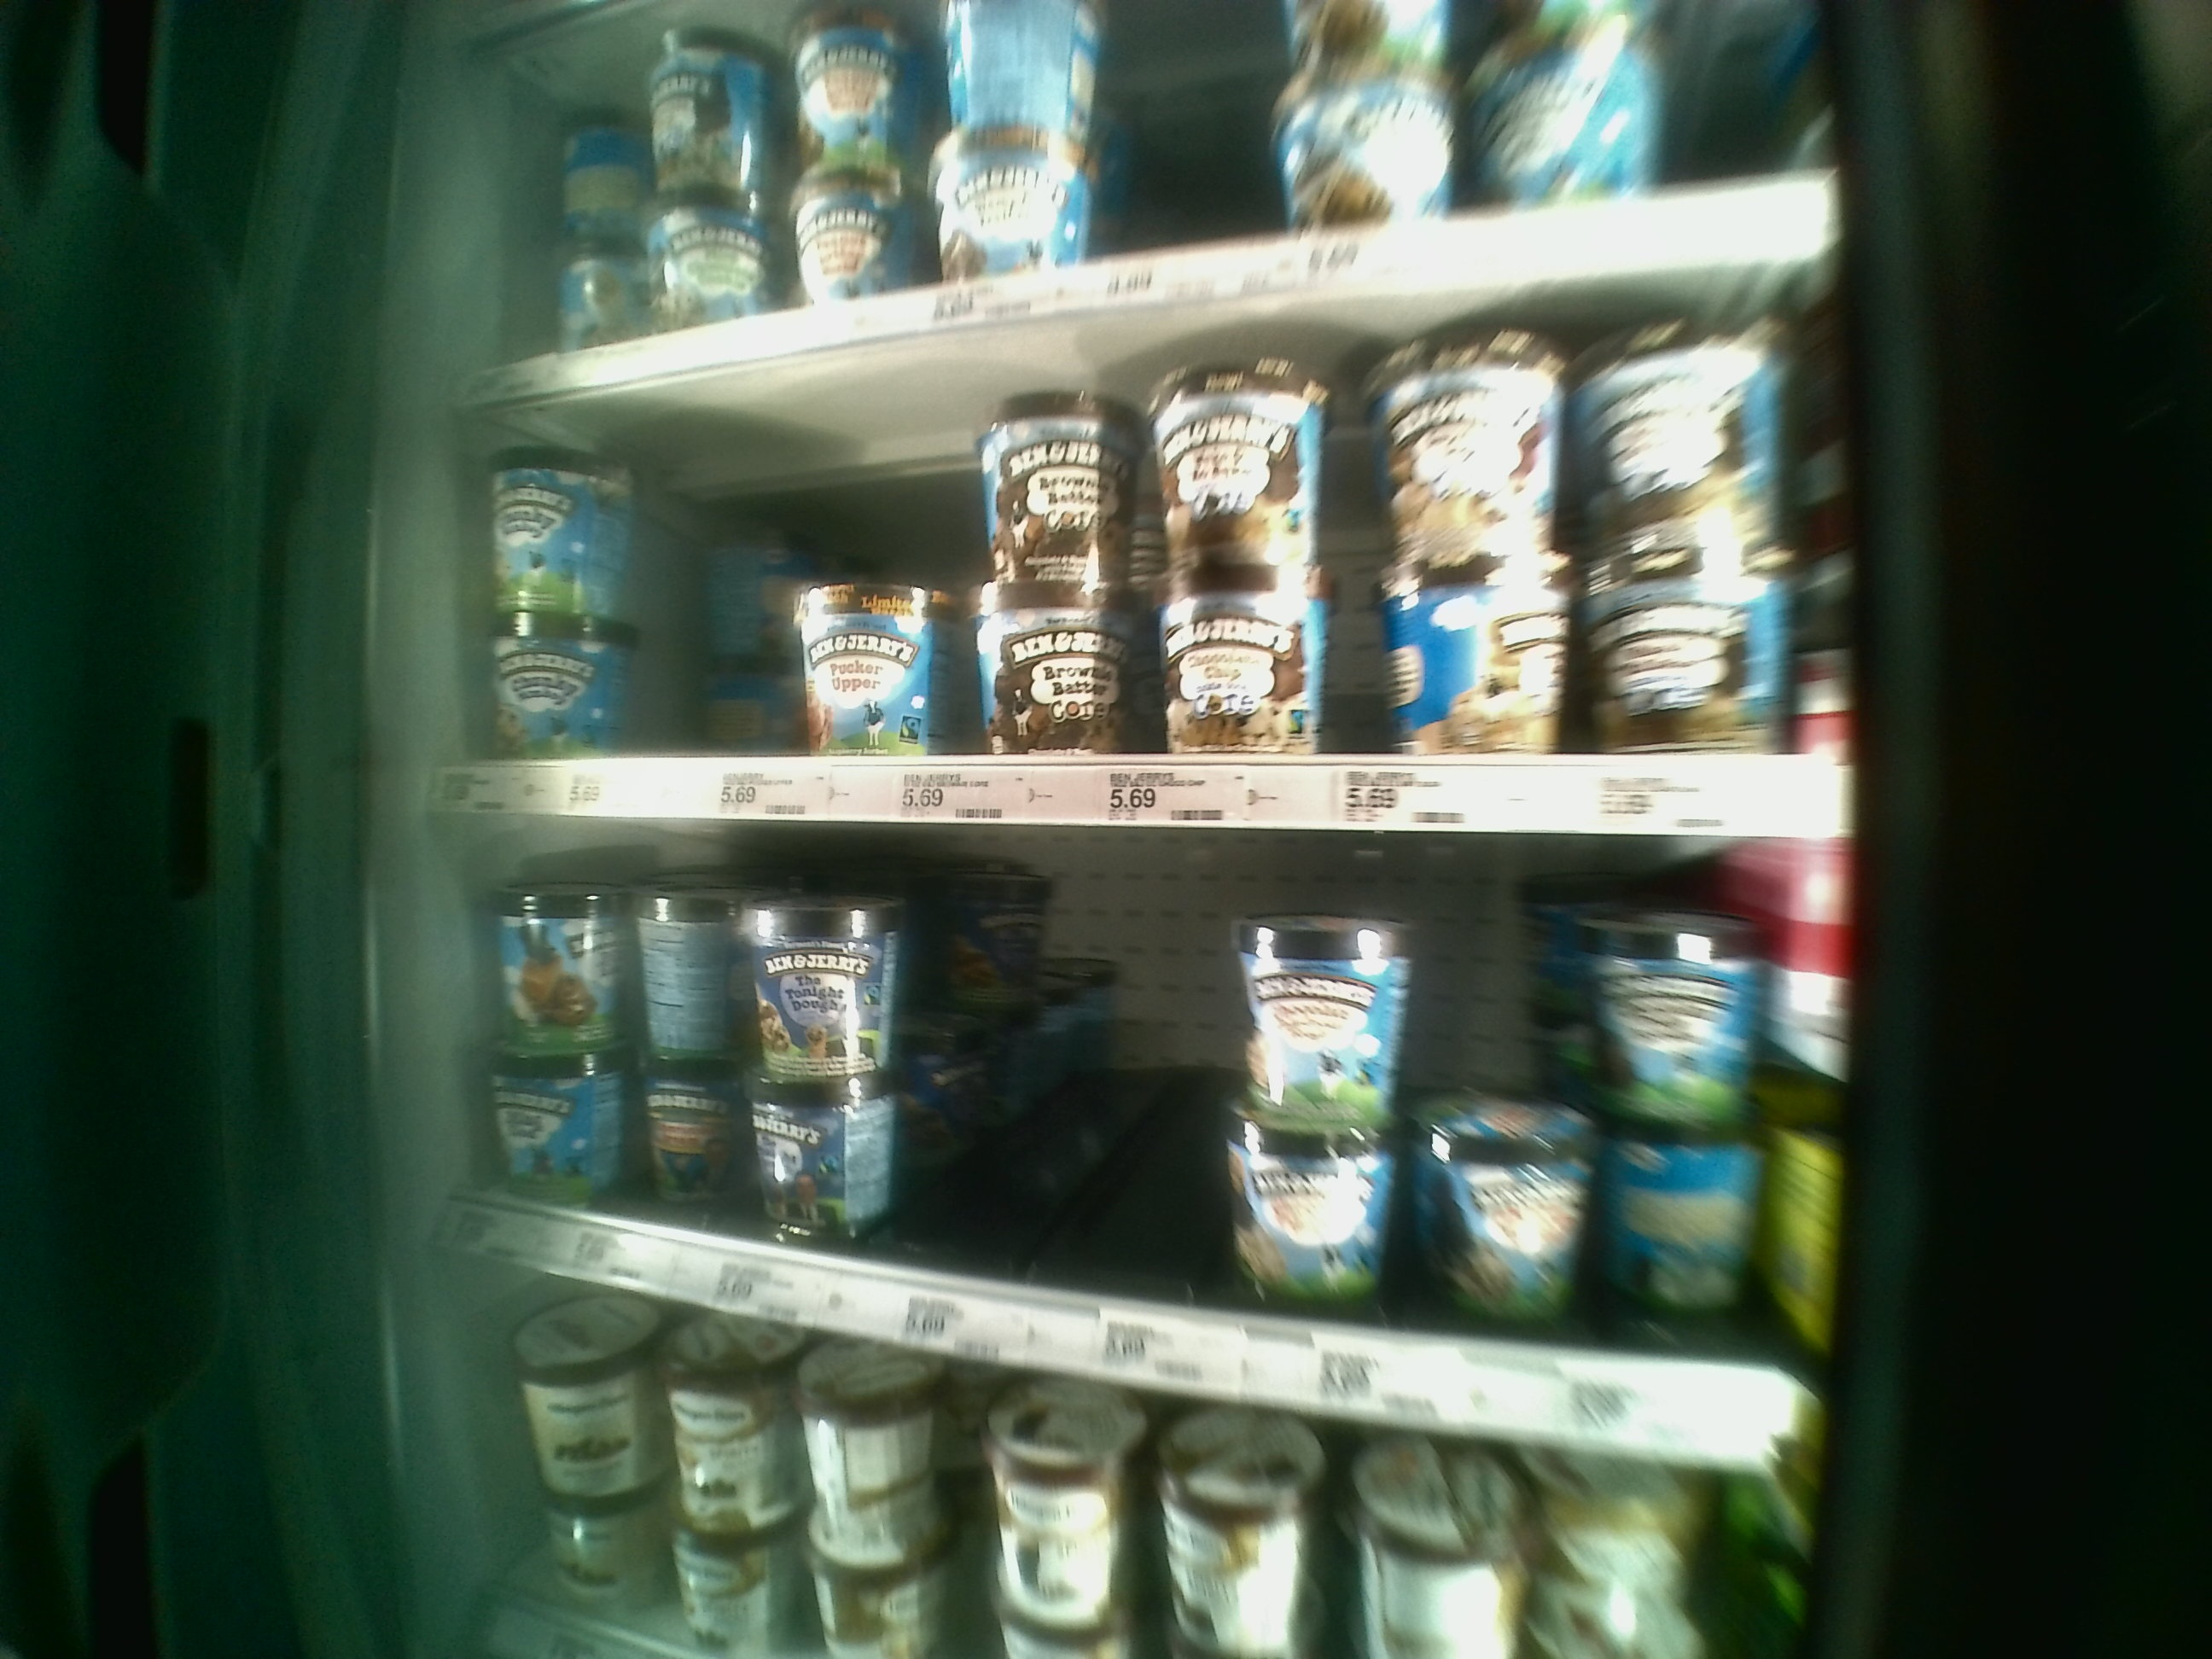shelf: (451, 807, 1860, 1467)
